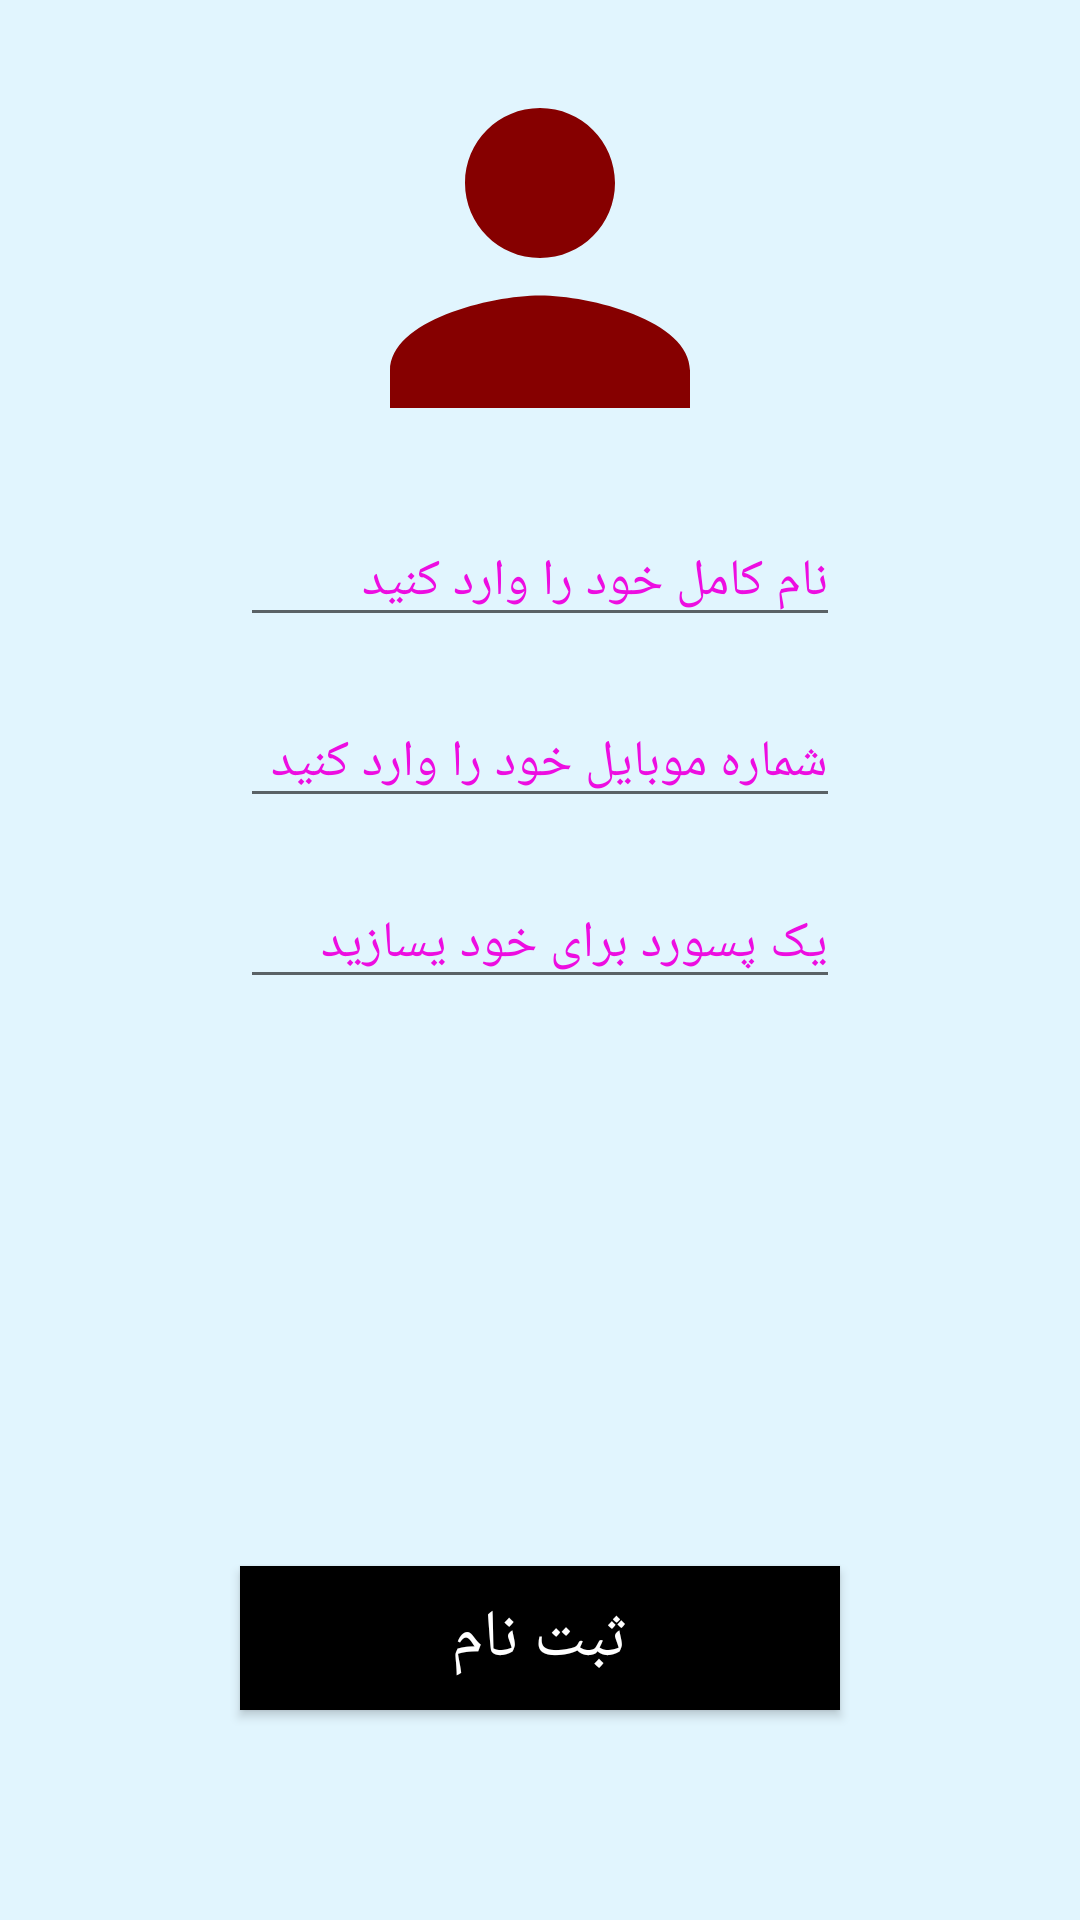

Point at icon controls on the screen. Image size 1080px x 1920px, points as point (x, y).
person: point (540, 258)
